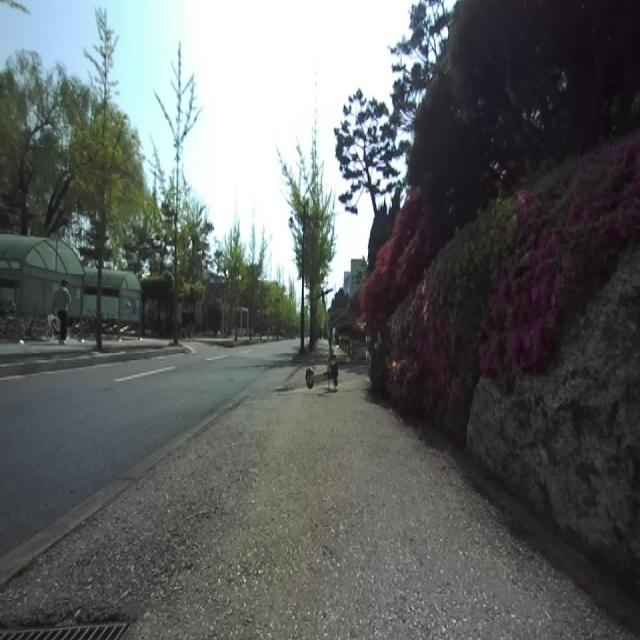sidewalk: (0, 388, 633, 639)
